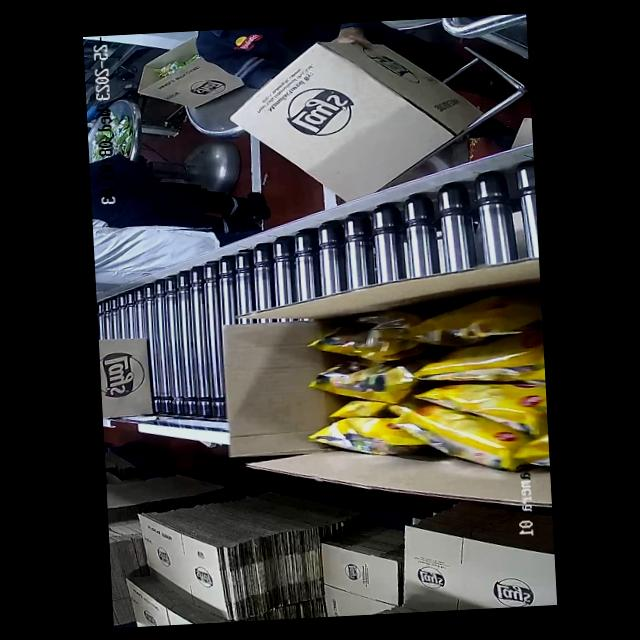salted: (298, 307, 549, 460)
